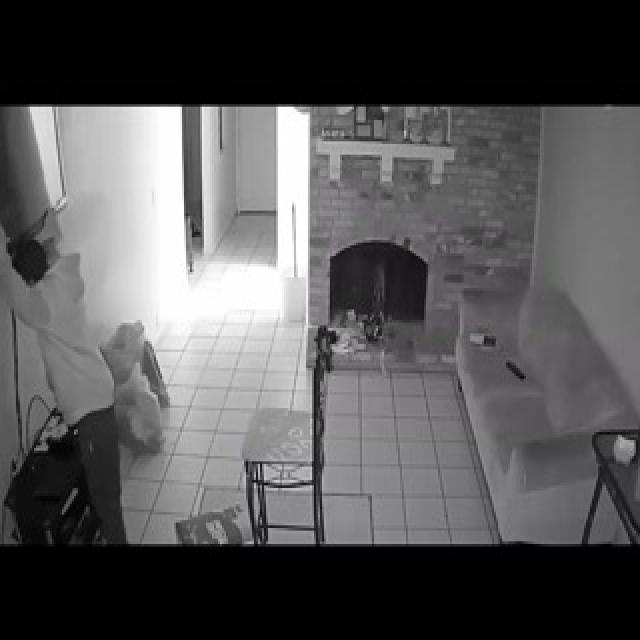thief: (0, 230, 70, 334)
